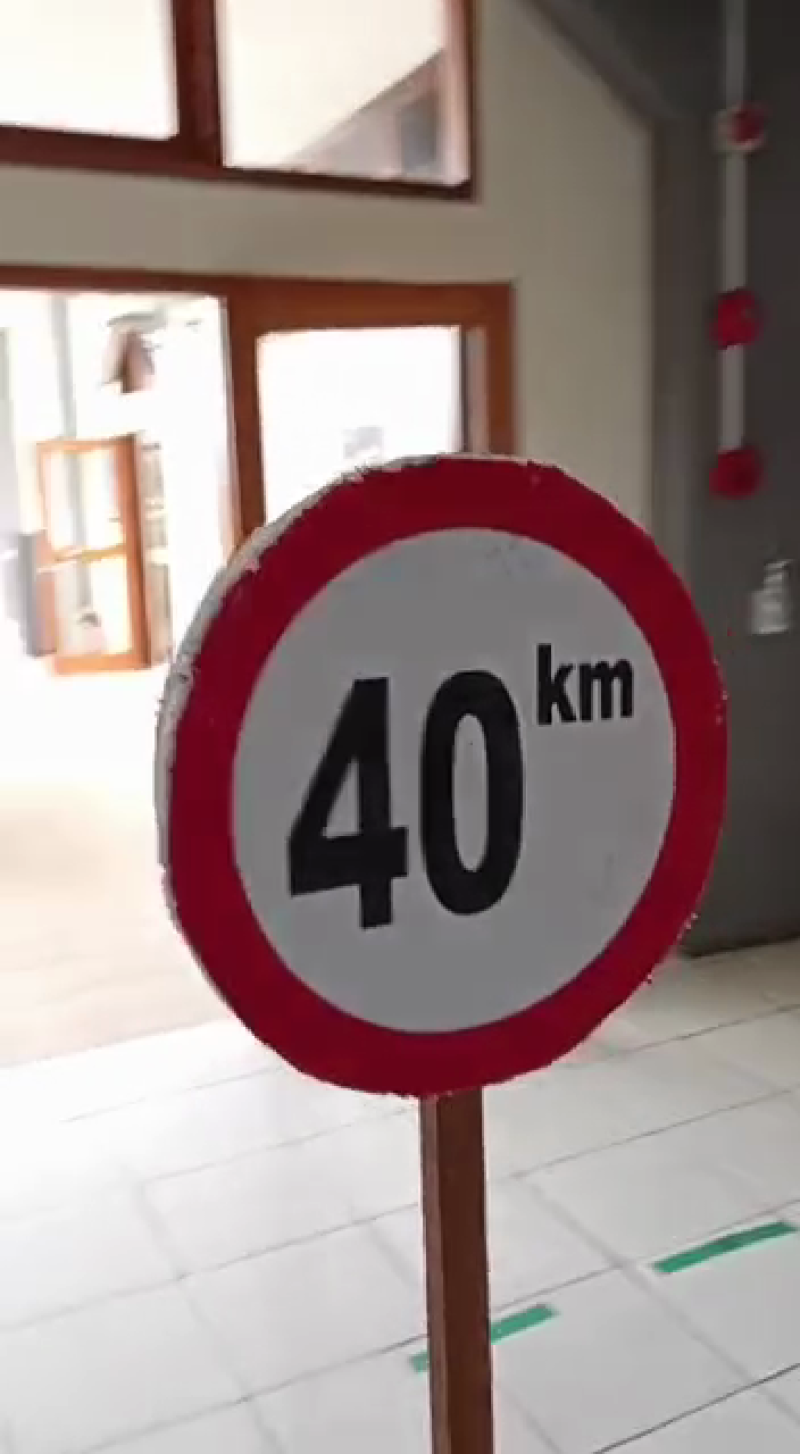batas maksimal 40kmperjam: (153, 441, 746, 1115)
